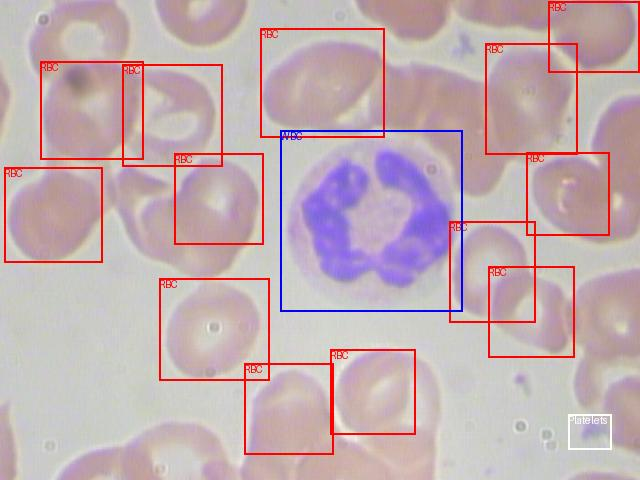Platelets: (568, 414, 611, 449)
RBC: (260, 28, 384, 137), (159, 278, 269, 380), (485, 43, 577, 154), (122, 64, 222, 166), (40, 61, 143, 159), (4, 167, 102, 262), (449, 221, 535, 322), (174, 153, 263, 244), (244, 363, 333, 454), (488, 266, 574, 357), (330, 349, 415, 434), (526, 152, 609, 235), (548, 1, 639, 72)
WBC: (280, 130, 462, 311)
